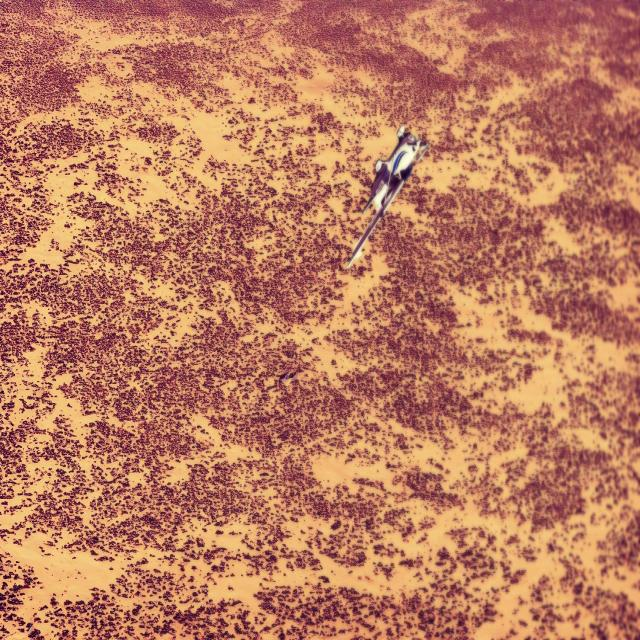airplane: (346, 123, 430, 270)
